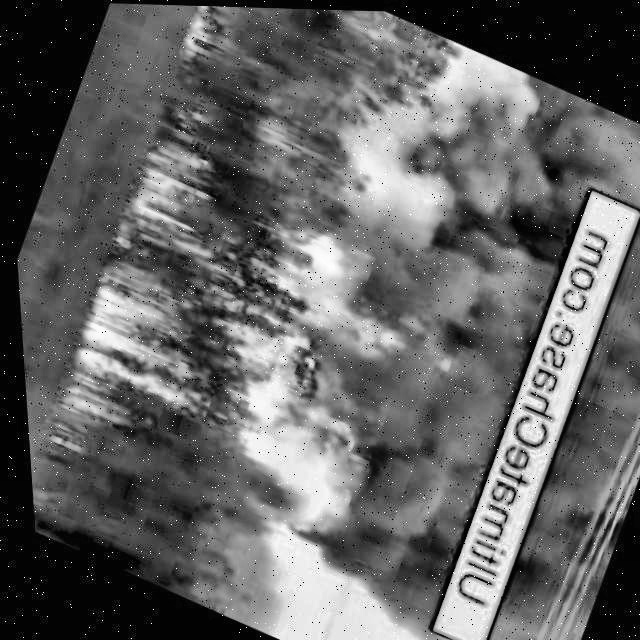Fire: (128, 187, 464, 561), (27, 121, 299, 484), (173, 4, 239, 64)
Smoke: (272, 53, 640, 640), (440, 127, 640, 640)
